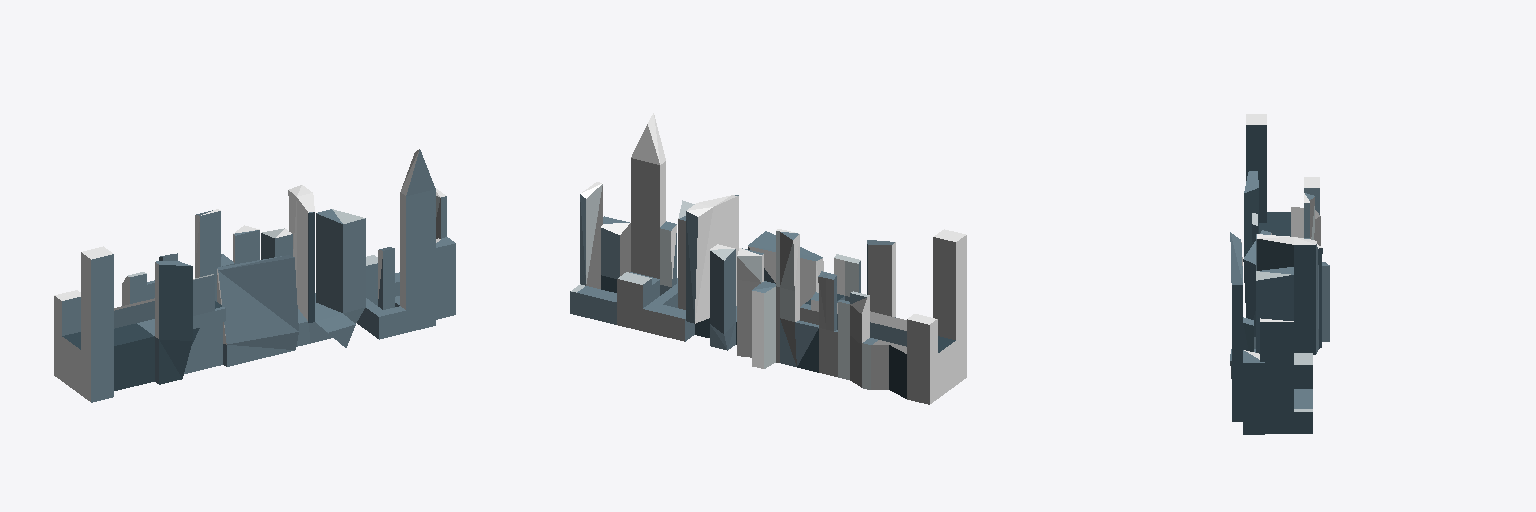
3 views of the same model, side by side, from view 1: azimuth 30°, elevation 25°; view 2: azimuth 150°, elevation 25°; view 3: azimuth 270°, elevation 25° (orthographic).
Parts seen in each view (by area): view 1: group[number redacted]; view 2: group[number redacted]; view 3: group[number redacted].
Part boxes in pixels (x1,y1,x2,y2): group[number redacted]: (54, 149, 455, 402); group[number redacted]: (570, 113, 966, 404); group[number redacted]: (1230, 114, 1329, 434).
Size of the model in its own units: 6.4 by 3.09 by 1.52.